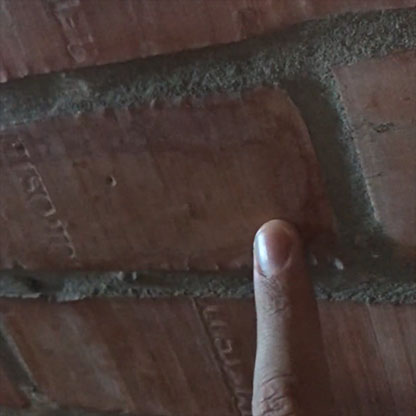fingertip: (238, 213, 318, 290)
